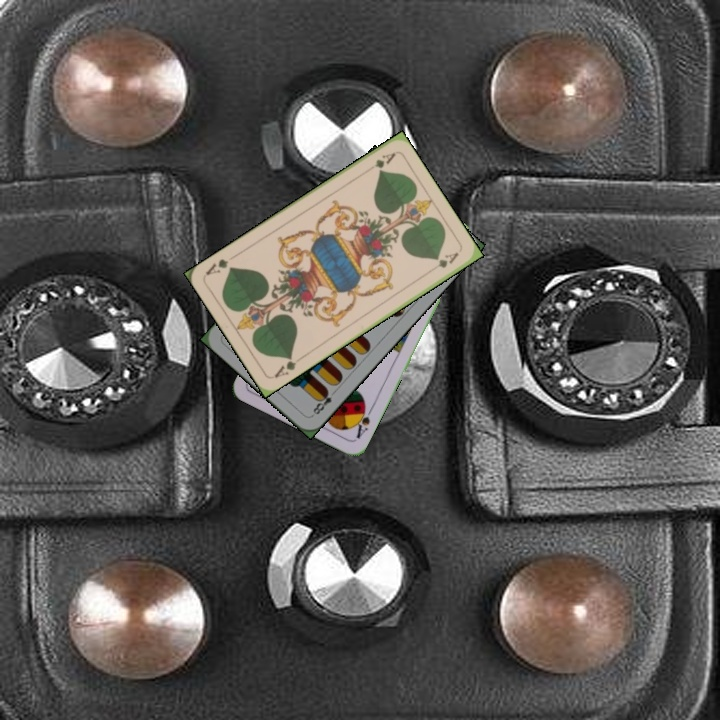E8: (308, 385, 339, 419)
GA: (361, 148, 398, 176), (270, 352, 305, 381)
SA: (350, 401, 375, 441)
